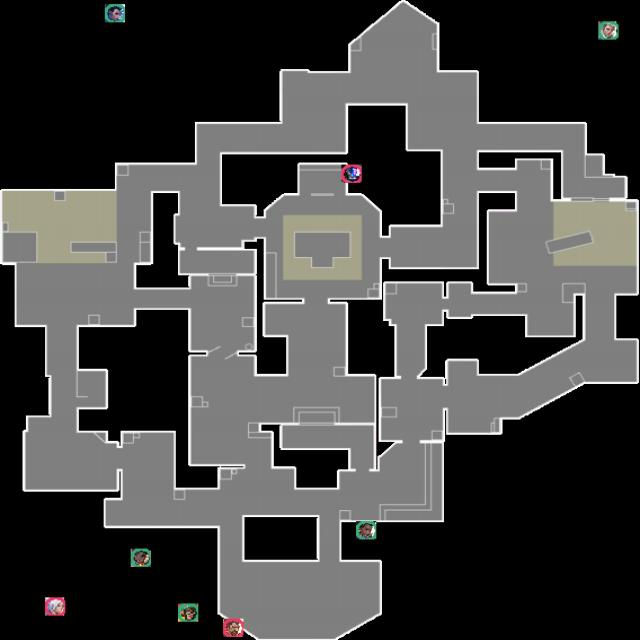atk_breach: (223, 619, 243, 637)
atk_jett: (45, 597, 65, 616)
atk_kayo: (341, 164, 362, 183)
def_astra: (356, 521, 376, 540)
def_killjoy: (178, 603, 198, 622)
def_phoenix: (131, 548, 151, 567)
def_sova: (598, 21, 619, 40)
def_yoru: (105, 4, 125, 22)
